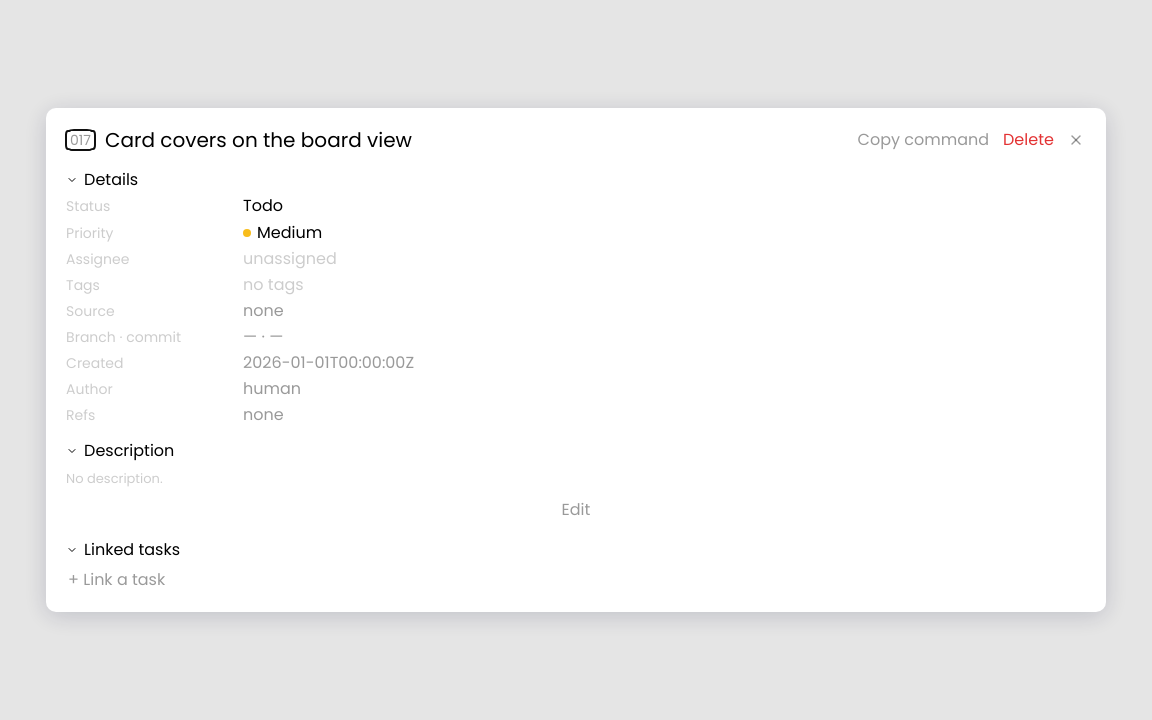
Scenario: TaskModal › reports an empty title without patching and keeps the old title shown
Click the button with aria-label "Title". click: (258, 140)
box: x1=101 y1=128 x2=416 y2=152
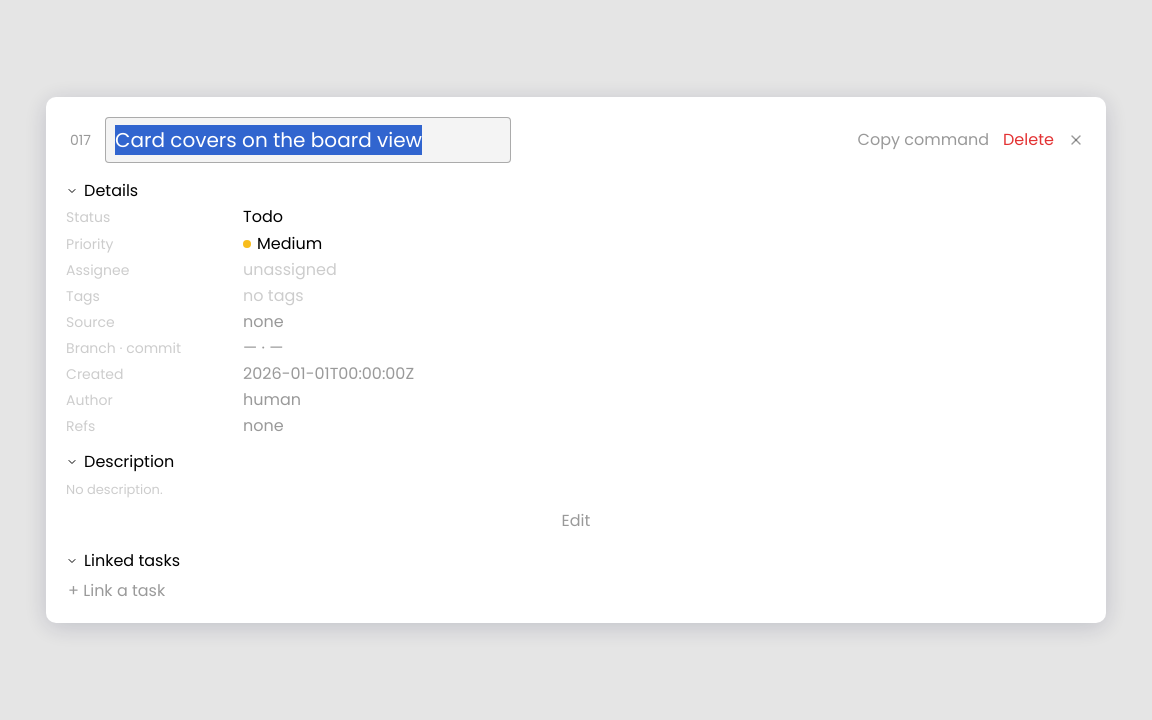
Clear the field named "Title". click: (308, 140)
box: x1=105 y1=117 x2=511 y2=163
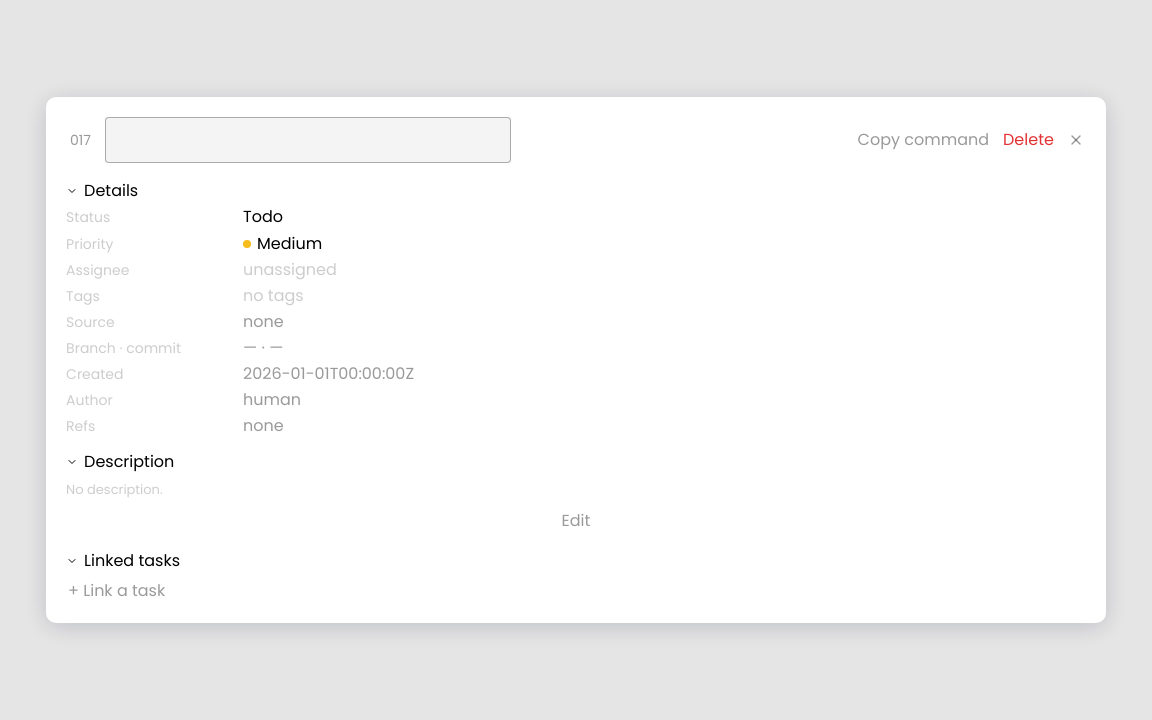
Press Enter
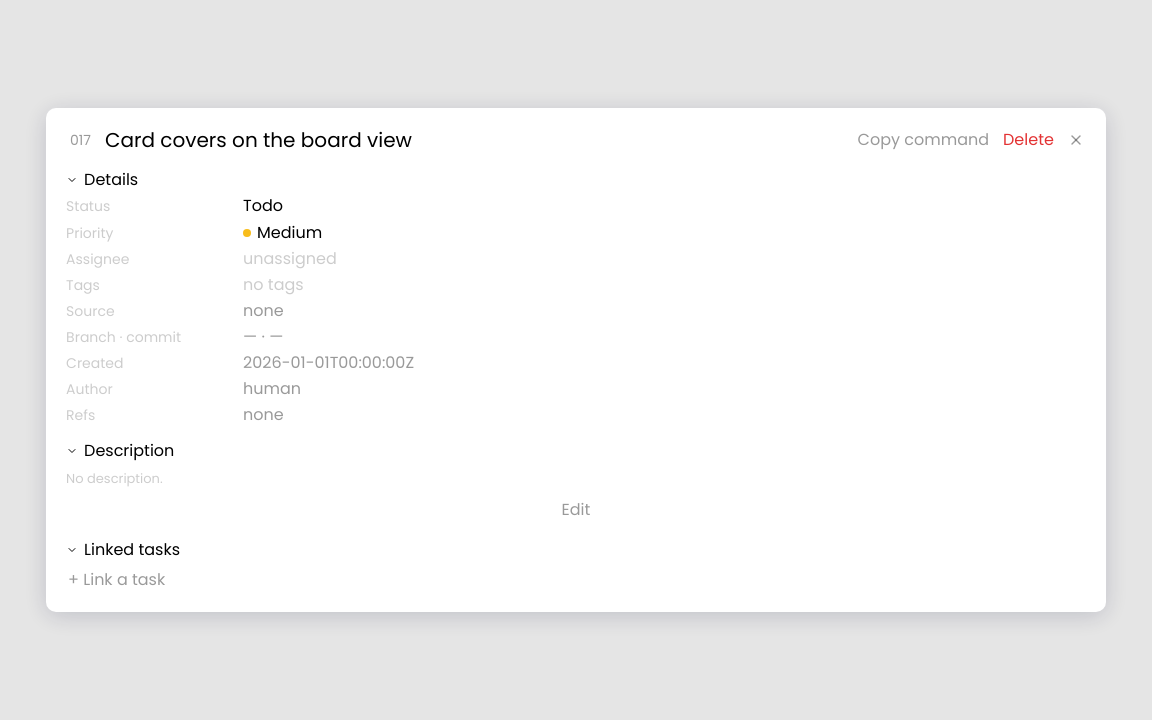
expect the button with aria-label "Title" reads "Card covers on the board view": met, box x1=101 y1=128 x2=416 y2=152
